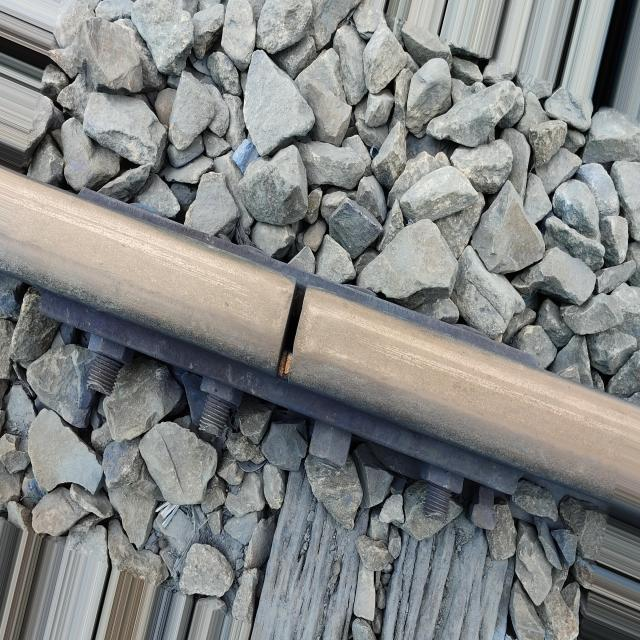crack: (269, 250, 317, 396)
